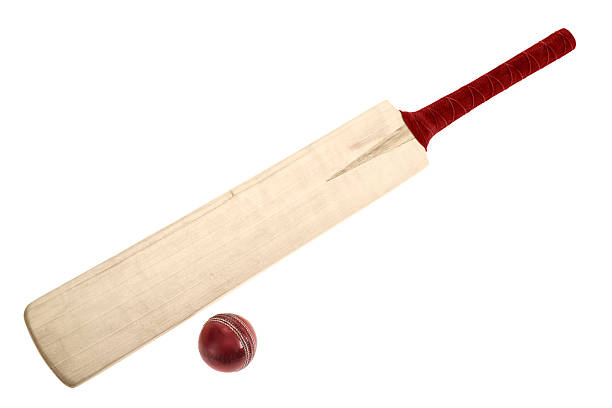bottom left: (3, 288, 45, 330)
bottom right: (52, 365, 89, 402)
top left: (368, 88, 396, 116)
top right: (409, 150, 437, 178)
